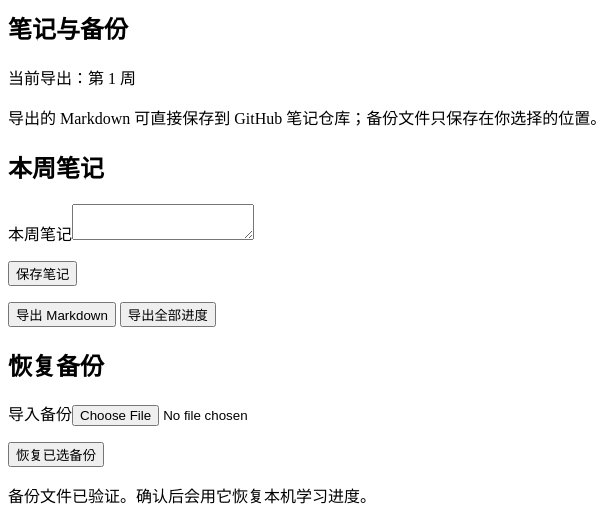
Test: NotesSettingsPage › shows a committed-but-unverified warning without claiming the old progress was retained
The image size is (613, 522).
Earlier steps of the test are not shown.
Check: the message "备份文件已验证。确认后会用它恢复本机学习进度。" is shown, box [8,488,376,505]
Click the button "恢复已选备份" at (56, 455), box [8,442,104,467]
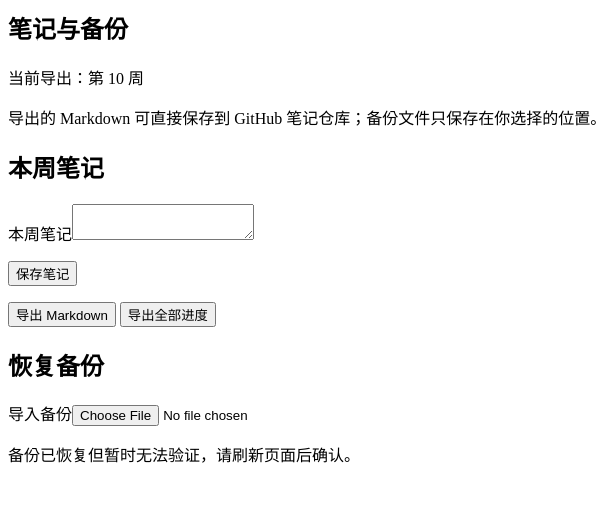
Check: the message shows "已恢复但暂时无法验证", box [8,447,360,464]
Check: the button "恢复已选备份" is gone
Check: the text "当前导出：第 10 周" is shown, box [8,70,144,87]
